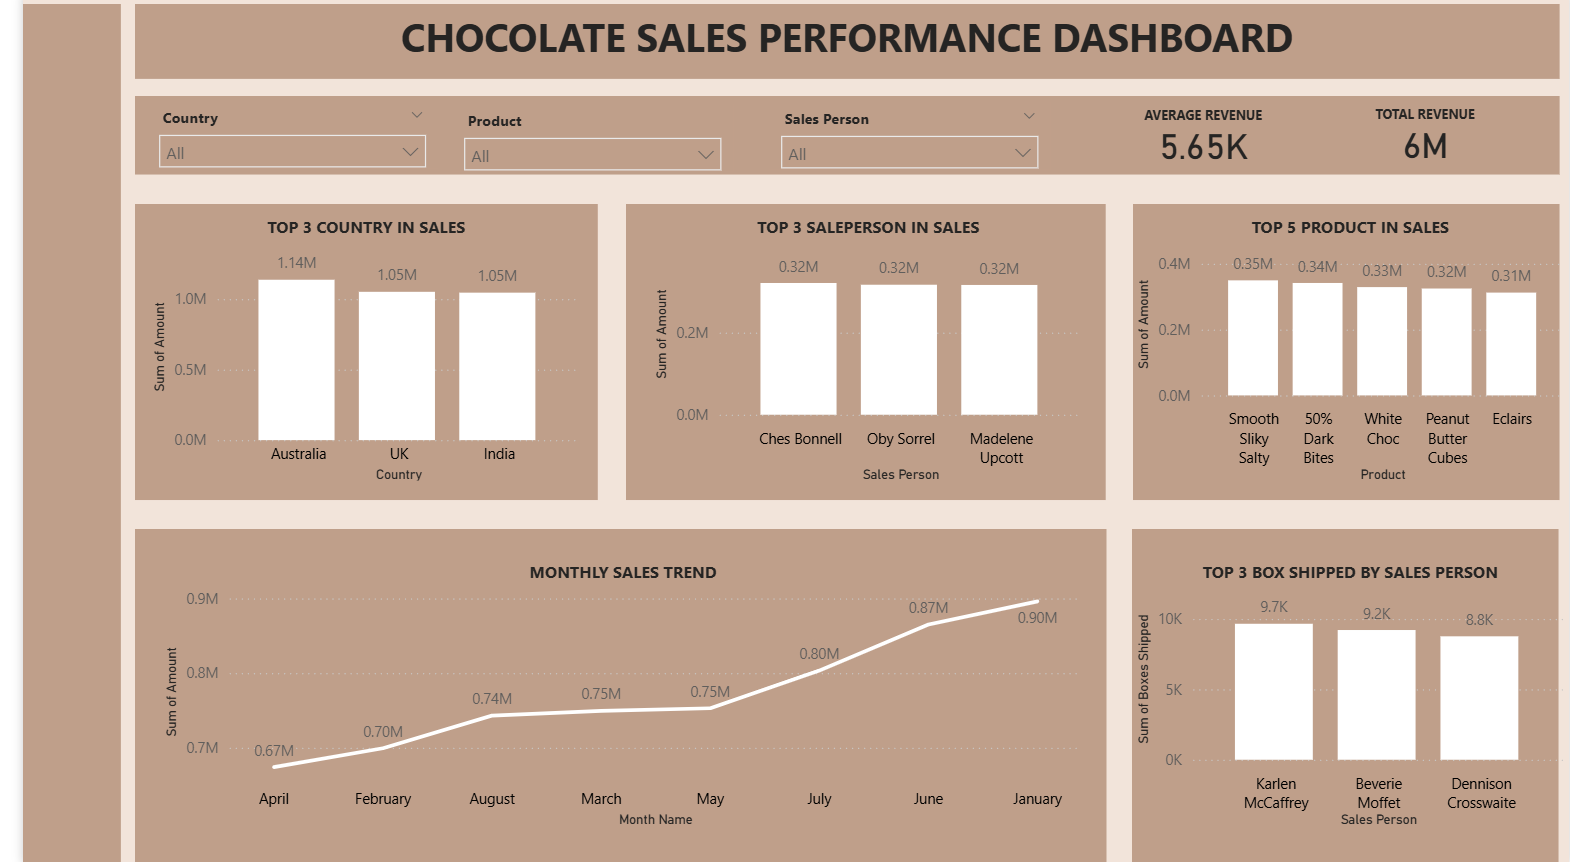

The dashboard page shown, as its layout file describes it:
{"tool":"powerbi","page":{"name":"Page 1","canvas":[1280,720],"ordinal":0},"visuals":[{"type":"textbox","box":[92.8,8,1178.2,61.9],"z":0},{"type":"textbox","box":[92.7,8.4,1178.6,61.8],"z":1},{"type":"textbox","box":[0,8.4,81,711.6],"z":2},{"type":"textbox","box":[92.6,84.7,1178.6,65.3],"z":3},{"type":"textbox","box":[92.6,173.8,382.9,245.2],"z":4},{"type":"textbox","box":[499.3,173.8,397,245.2],"z":5},{"type":"textbox","box":[918.3,173.8,352.9,245.2],"z":6},{"type":"textbox","box":[92.6,442.8,803.6,277],"z":7},{"type":"textbox","box":[918,443,353,277],"z":8},{"type":"card","title":"TOTAL REVENUE","fields":{"Values":["Sum(TABLE.Amount)"]},"box":[1064.8,90.9,190.5,51.2],"z":9},{"type":"card","title":"AVERAGE REVENUE","fields":{"Values":["TABLE.AVERAGE SALES"]},"box":[881.3,91.7,190.5,51.2],"z":10},{"type":"clusteredColumnChart","title":"TOP 3 COUNTRY IN SALES","fields":{"Category":["TABLE.Country"],"Y":["Sum(TABLE.Amount)"]},"box":[102.8,183.6,363.1,224.5],"z":11},{"type":"clusteredColumnChart","title":"TOP 3 SALEPERSON IN SALES","fields":{"Category":["TABLE.Sales Person"],"Y":["Sum(TABLE.Amount)"]},"box":[517.8,183.6,363.1,224.5],"z":12},{"type":"clusteredColumnChart","title":"TOP 5 PRODUCT IN SALES","fields":{"Category":["TABLE.Product"],"Y":["Sum(TABLE.Amount)"]},"box":[916.9,183.6,363.1,224.5],"z":13},{"type":"lineChart","title":"MONTHLY SALES TREND","fields":{"Category":["TABLE.Month Name"],"Y":["Sum(TABLE.Amount)"]},"box":[112.7,468.9,768.2,224.5],"z":14},{"type":"clusteredColumnChart","title":"TOP  3 BOX SHIPPED BY SALES PERSON","fields":{"Category":["TABLE.Sales Person"],"Y":["Sum(TABLE.Boxes Shipped)"]},"box":[916.9,468.9,363.1,224.5],"z":15},{"type":"slicer","fields":{"Values":["TABLE.Country"]},"box":[102.3,88.2,240.8,55.6],"z":16},{"type":"slicer","fields":{"Values":["TABLE.Product"]},"box":[354.6,90.9,232.9,55.6],"z":17},{"type":"slicer","fields":{"Values":["TABLE.Sales Person"]},"box":[617.5,89.1,232.9,55.6],"z":18}]}

Visuals, with their boxes in screenshot pixels (x1, y1, x2, y2), scaled from the page's 1280x720 canvas onto the 1570x862 screenshot:
textbox: {"left": 114, "top": 10, "right": 1559, "bottom": 84}
textbox: {"left": 114, "top": 10, "right": 1559, "bottom": 84}
textbox: {"left": 0, "top": 10, "right": 99, "bottom": 861}
textbox: {"left": 114, "top": 101, "right": 1559, "bottom": 180}
textbox: {"left": 114, "top": 208, "right": 583, "bottom": 502}
textbox: {"left": 612, "top": 208, "right": 1099, "bottom": 502}
textbox: {"left": 1126, "top": 208, "right": 1559, "bottom": 502}
textbox: {"left": 114, "top": 530, "right": 1099, "bottom": 861}
textbox: {"left": 1126, "top": 530, "right": 1559, "bottom": 861}
"TOTAL REVENUE" card: {"left": 1306, "top": 109, "right": 1540, "bottom": 170}
"AVERAGE REVENUE" card: {"left": 1081, "top": 110, "right": 1315, "bottom": 171}
"TOP 3 COUNTRY IN SALES" clusteredColumnChart: {"left": 126, "top": 220, "right": 571, "bottom": 489}
"TOP 3 SALEPERSON IN SALES" clusteredColumnChart: {"left": 635, "top": 220, "right": 1080, "bottom": 489}
"TOP 5 PRODUCT IN SALES" clusteredColumnChart: {"left": 1125, "top": 220, "right": 1569, "bottom": 489}
"MONTHLY SALES TREND" lineChart: {"left": 138, "top": 561, "right": 1080, "bottom": 830}
"TOP  3 BOX SHIPPED BY SALES PERSON" clusteredColumnChart: {"left": 1125, "top": 561, "right": 1569, "bottom": 830}
slicer - TABLE.Country: {"left": 125, "top": 106, "right": 421, "bottom": 172}
slicer - TABLE.Product: {"left": 435, "top": 109, "right": 721, "bottom": 175}
slicer - TABLE.Sales Person: {"left": 757, "top": 107, "right": 1043, "bottom": 173}
